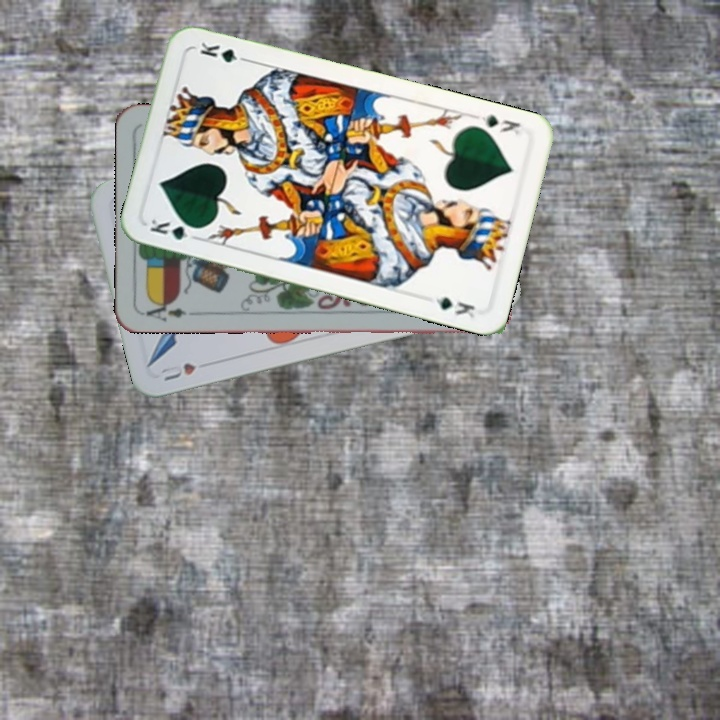EA: (139, 297, 198, 324)
GK: (146, 215, 204, 243), (471, 111, 523, 138)
HU: (157, 359, 199, 384)
